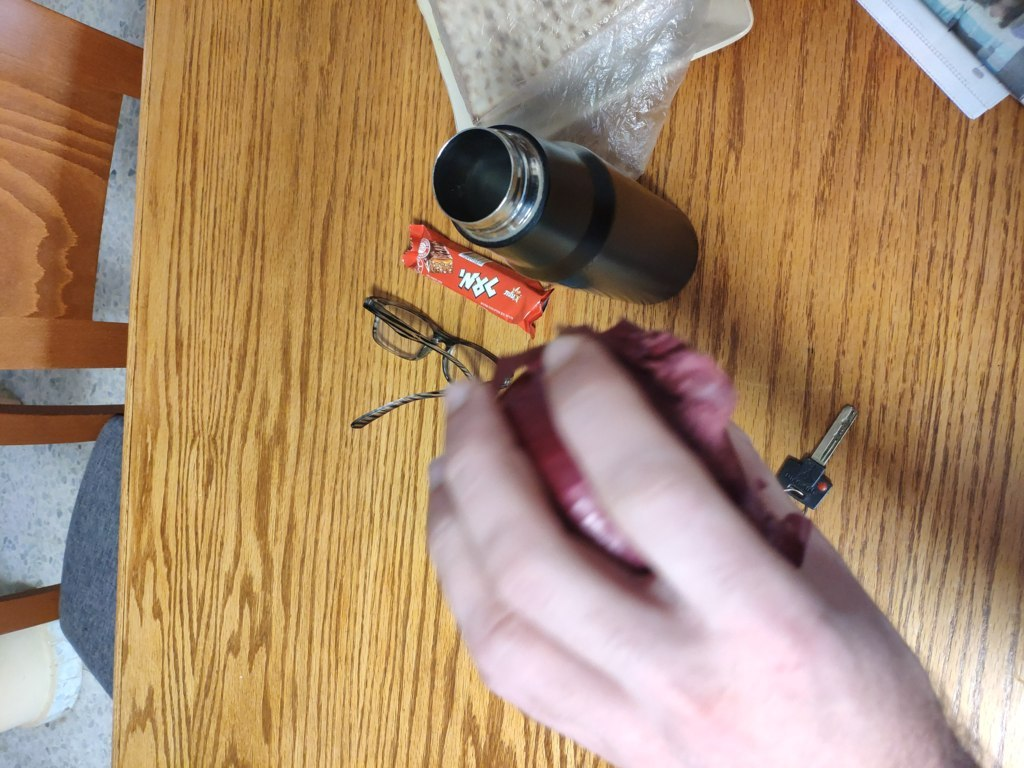Onion: (477, 378, 785, 605)
